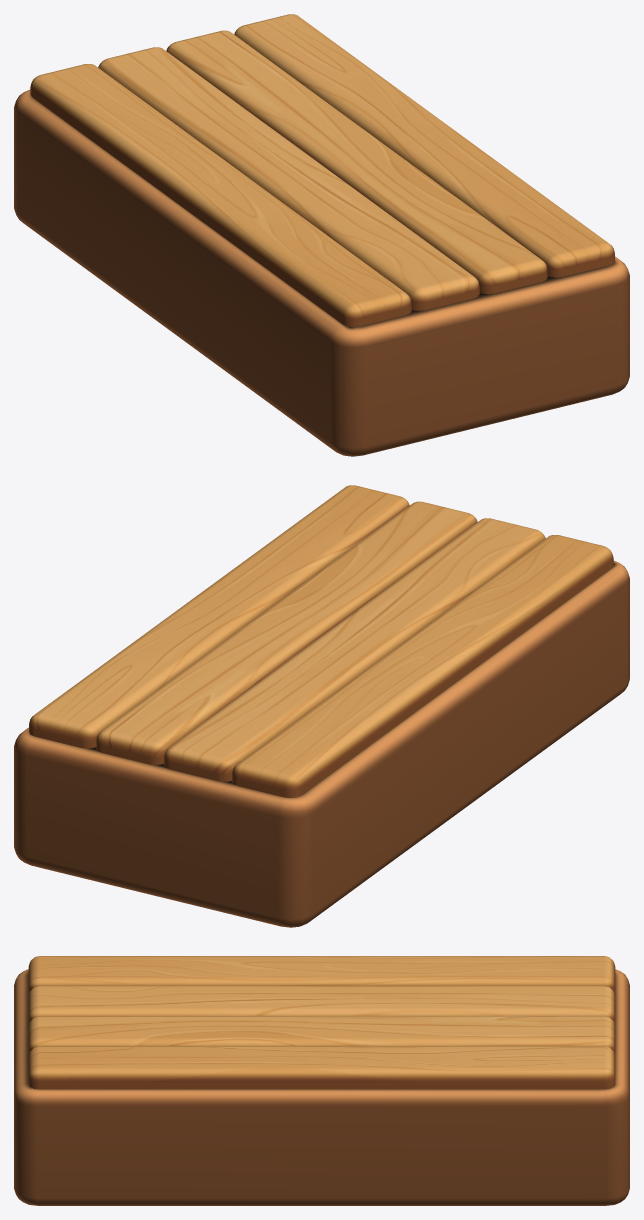
File: WoodenBox_2x4.fbx
The picture shows the model from 3 angles, top to bottom: view 1: azimuth 30°, elevation 25°; view 2: azimuth 150°, elevation 25°; view 3: azimuth 270°, elevation 25°; orthographic projection. The views are drawn at different scales.
Visible parts, largest first — view 1: box2x4; view 2: box2x4; view 3: box2x4.
Boxes of the visible parts, x1,y1,x2,y2 form: box2x4: (14, 14, 629, 456); box2x4: (14, 485, 629, 927); box2x4: (14, 956, 629, 1205).
Size of the model in its own units: 2.03 by 0.9589 by 4.03.
